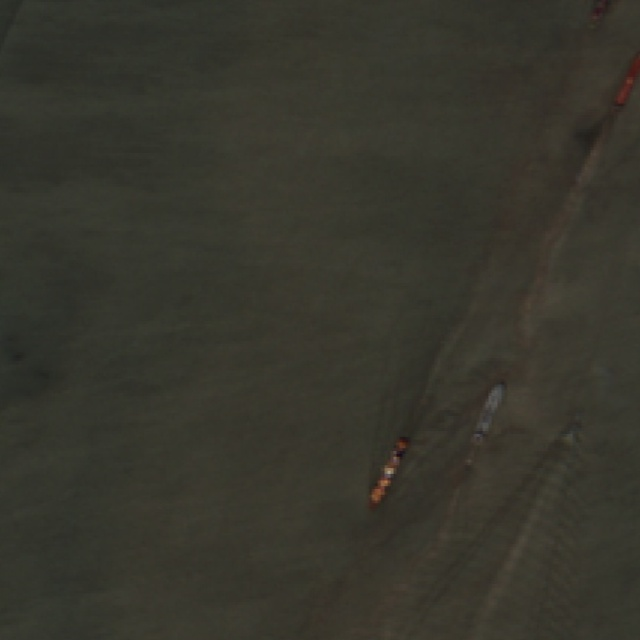wake: (459, 391, 631, 589)
